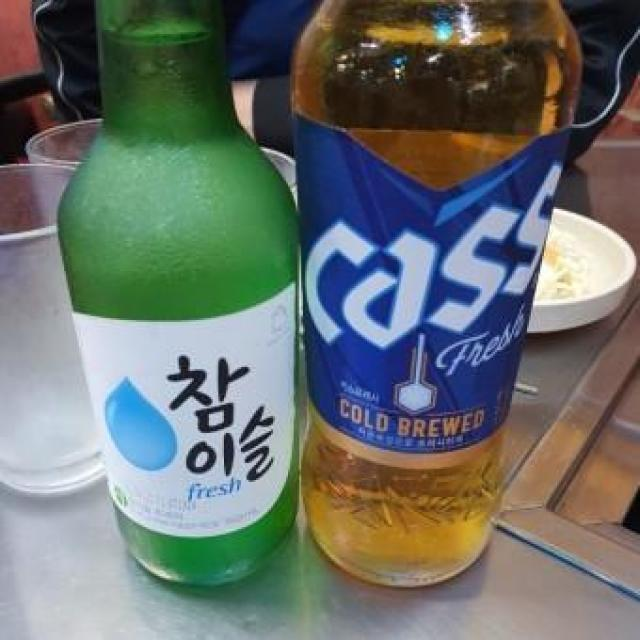beer-bottle: (298, 2, 542, 602)
soju-bottle: (92, 2, 288, 582)
